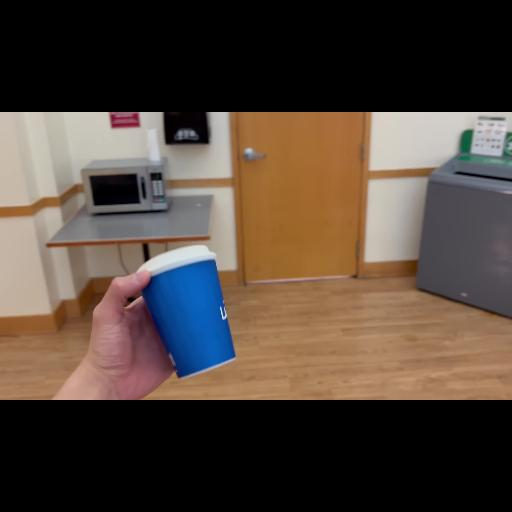lp_paper_cup: (135, 244, 237, 378)
